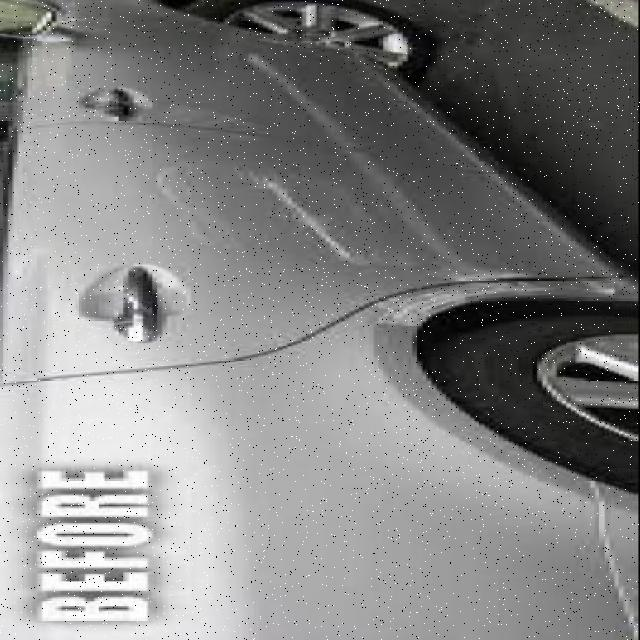damage: (351, 267, 637, 330), (252, 172, 375, 261)
